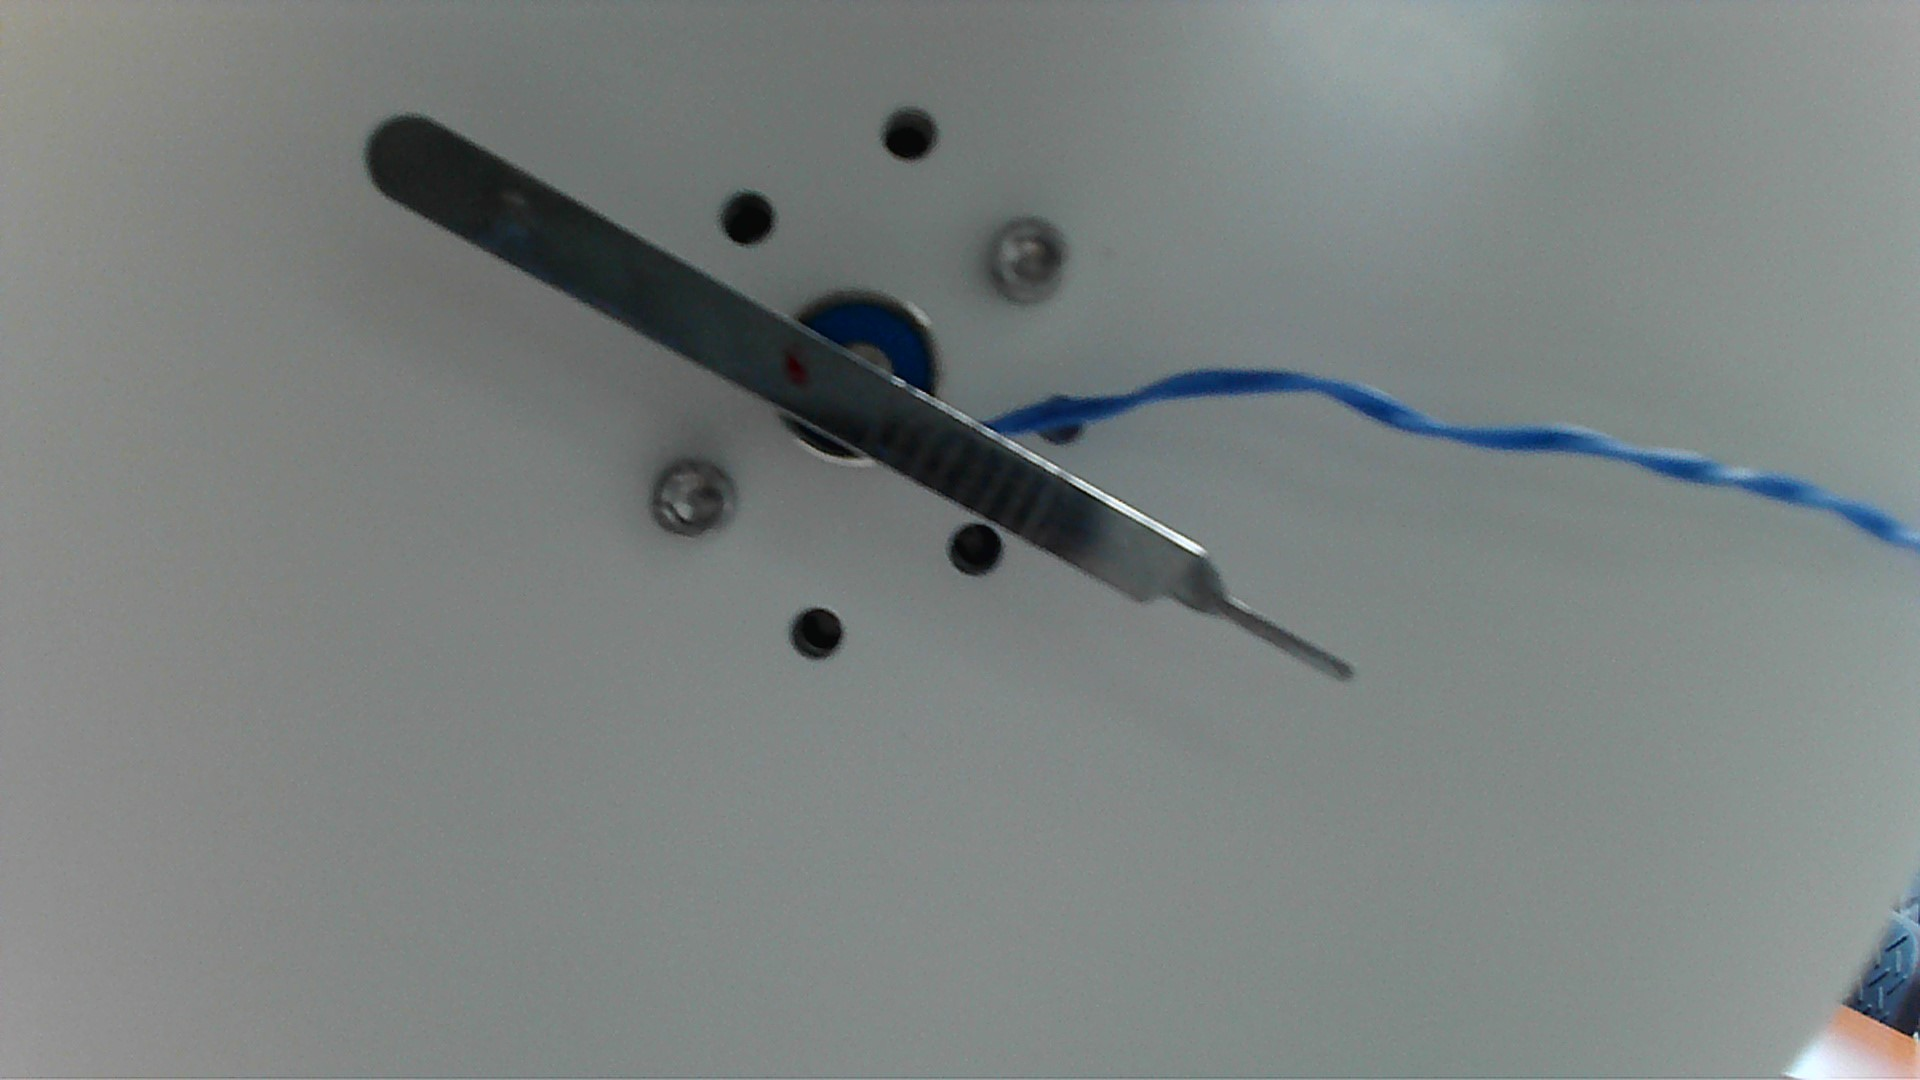Stain: (777, 348, 811, 393)
